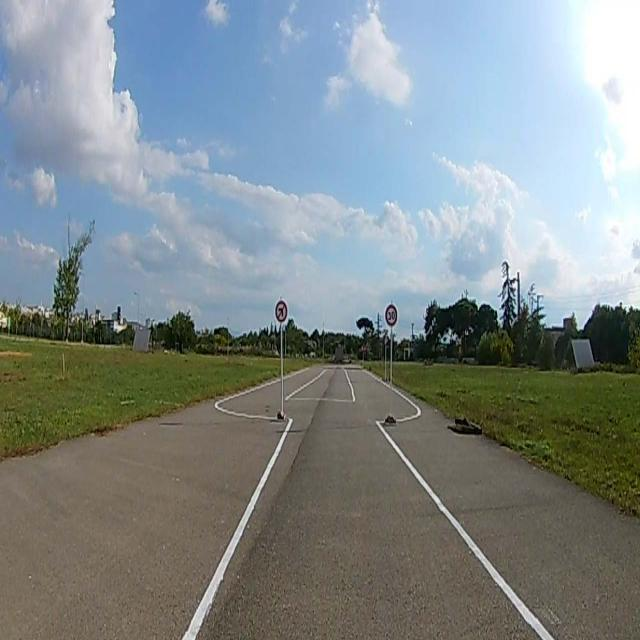30: (386, 305, 398, 326)
soladonulmez: (274, 299, 288, 321)
